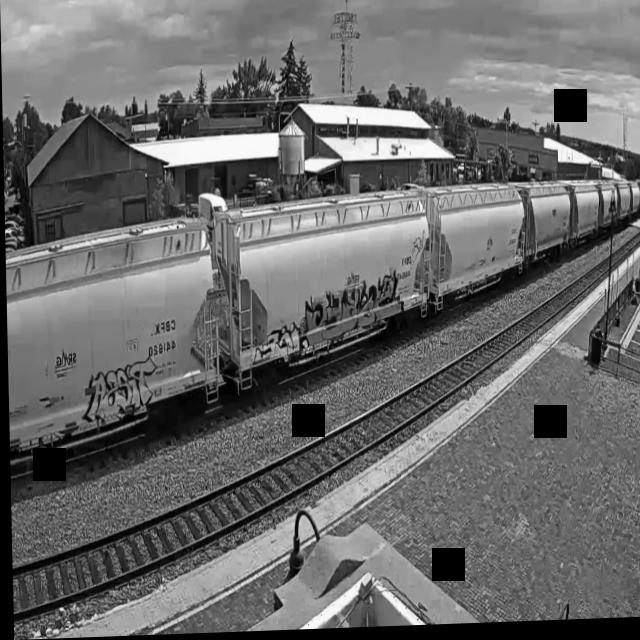hopper: (4, 205, 221, 488), (210, 187, 433, 403), (417, 182, 527, 319)
